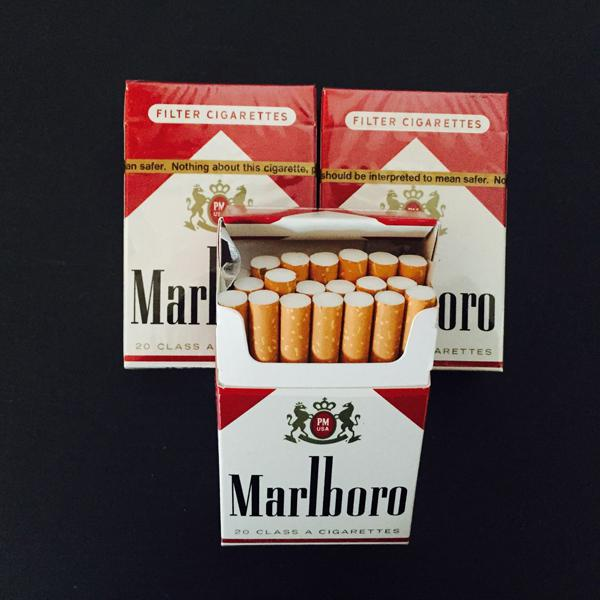marlboro_red: (126, 84, 316, 369), (324, 92, 499, 371), (218, 309, 416, 544)
